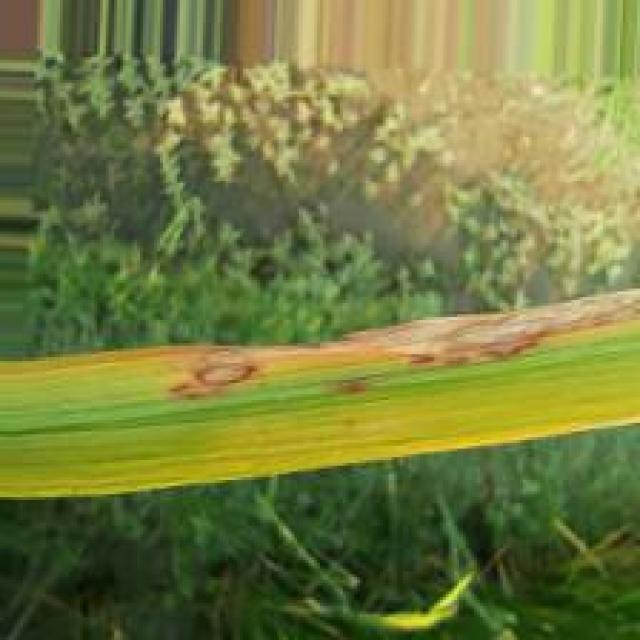Rice Tungro: (168, 289, 638, 402)
